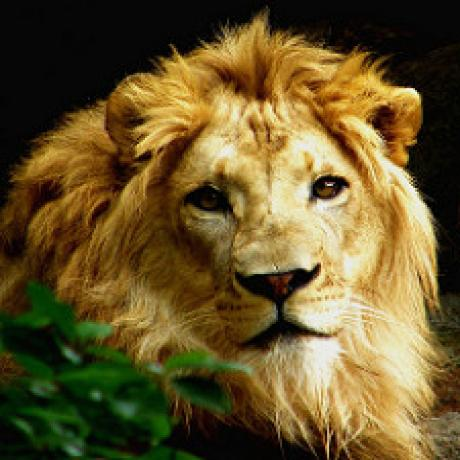Lion: (3, 15, 451, 460)
